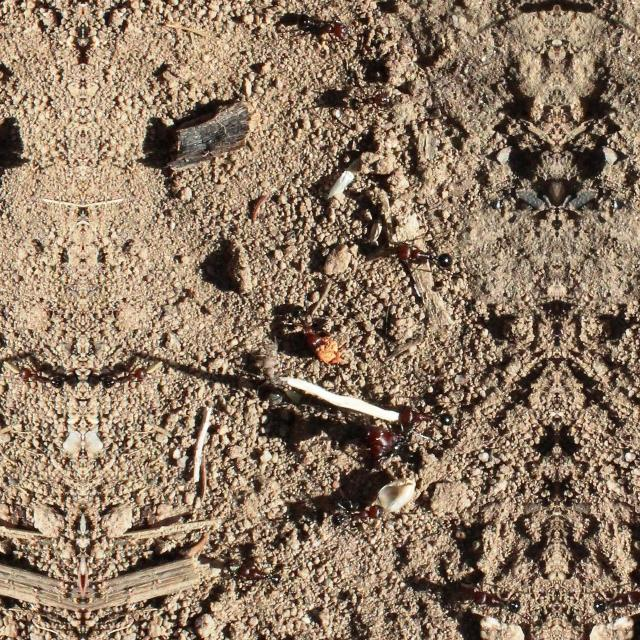Messor: (392, 234, 470, 278), (354, 423, 396, 482), (286, 13, 350, 47), (281, 304, 323, 354), (396, 399, 466, 429), (233, 558, 284, 596), (98, 364, 148, 396), (16, 364, 66, 396), (333, 498, 375, 528)
